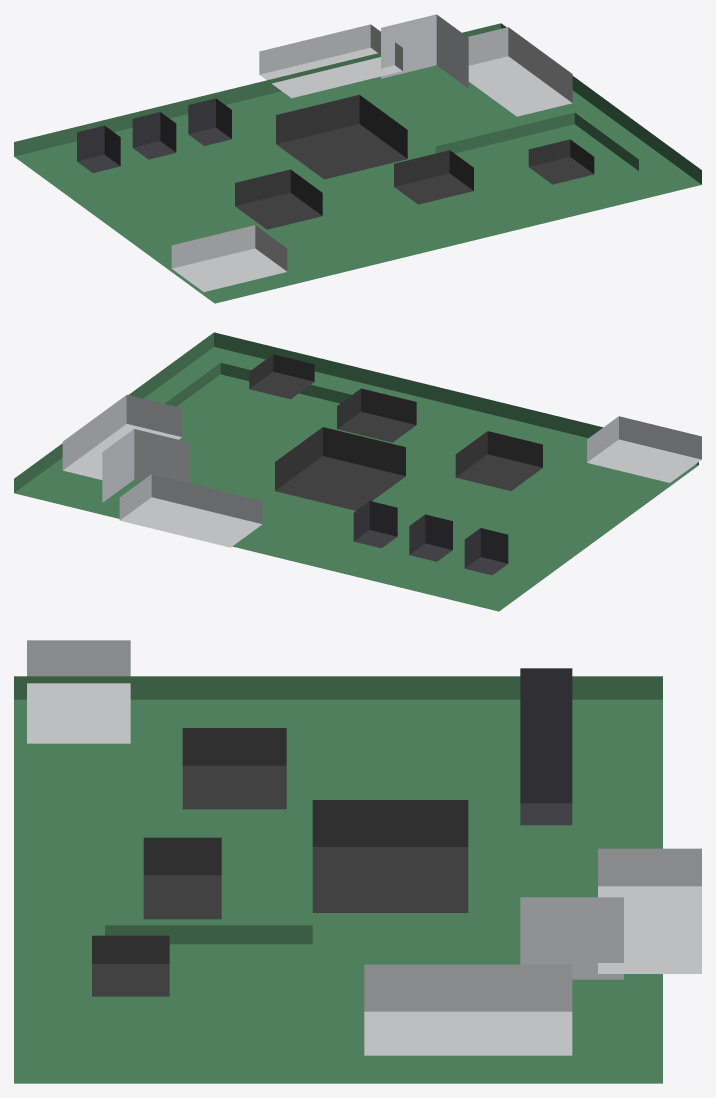
File: mainboard.gltf
3 views of the same model, one above another, from view 1: azimuth 30°, elevation 25°; view 2: azimuth 150°, elevation 25°; view 3: azimuth 270°, elevation 25° (orthographic). The views are drawn at different scales.
Parts seen in each view (by area): view 1: mainboard; view 2: mainboard; view 3: mainboard.
Part boxes in pixels (bbox=[...]): mainboard: bbox=[14, 14, 701, 303]; mainboard: bbox=[14, 332, 701, 611]; mainboard: bbox=[14, 640, 701, 1083].
Size of the model in its own units: 0.355 by 0.04 by 0.265.
